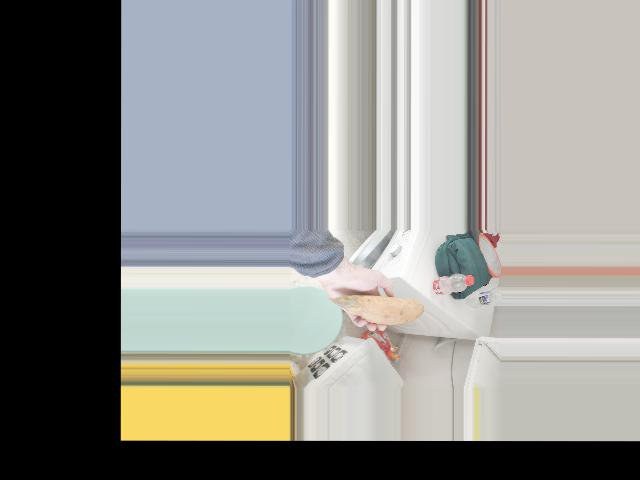sweet_potato: (335, 294, 414, 325)
